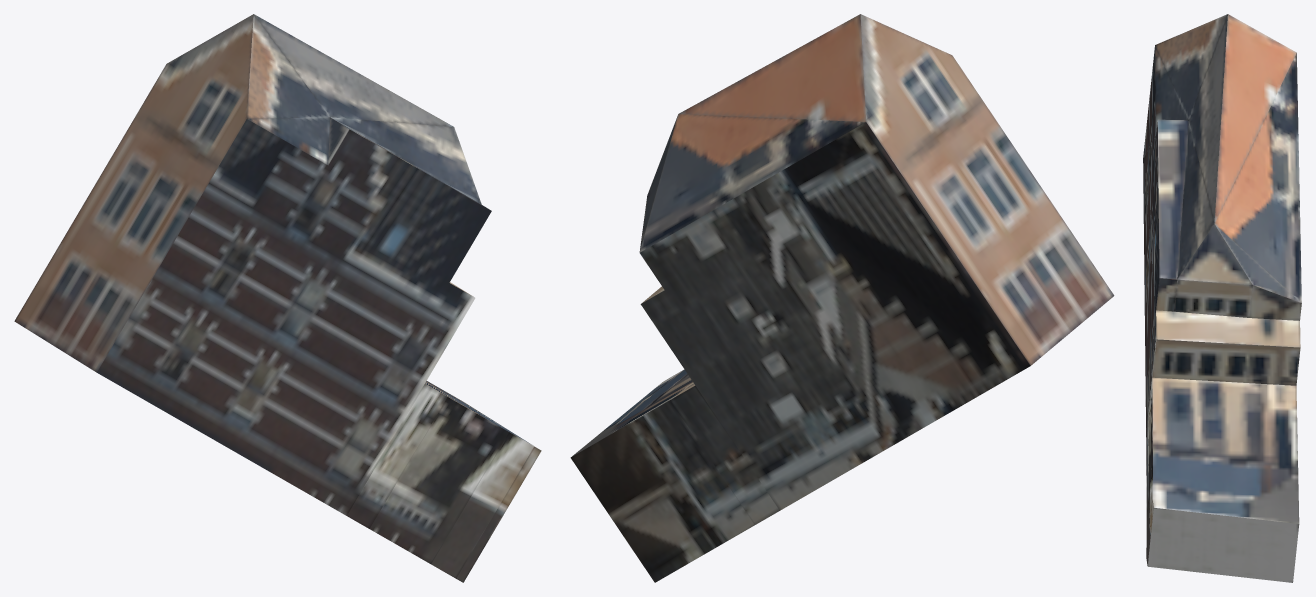
3 views of the same model, side by side, from view 1: azimuth 30°, elevation 25°; view 2: azimuth 150°, elevation 25°; view 3: azimuth 270°, elevation 25° (orthographic). The views are drawn at different scales.
Visible parts, largest first — view 1: BAG_0599100000671567 (×5); view 2: BAG_0599100000671567 (×3); view 3: BAG_0599100000671567 (×4).
Part boxes in pixels (x1,y1,x2,y2): BAG_0599100000671567 (×5): (14, 14, 541, 582); BAG_0599100000671567 (×3): (570, 14, 1114, 582); BAG_0599100000671567 (×4): (1143, 14, 1301, 582).
Size of the model in its own units: 18.42 by 22.62 by 6.52.
1 material, 1 textured.
